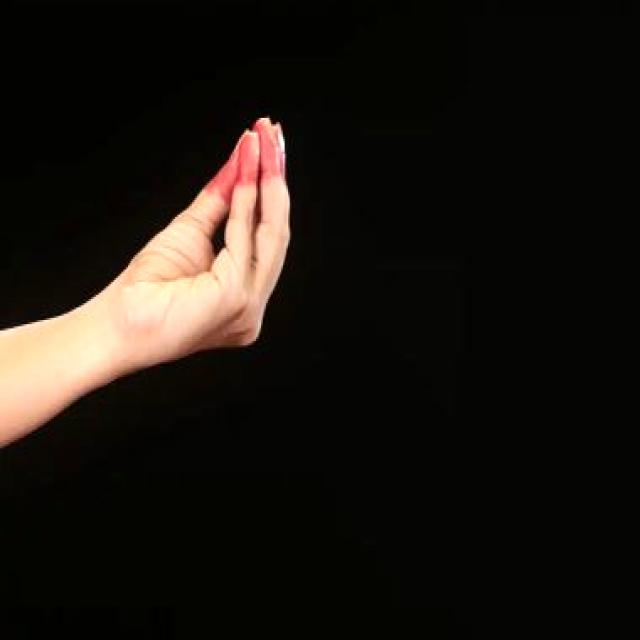Samdamsha: (110, 72, 351, 440)
